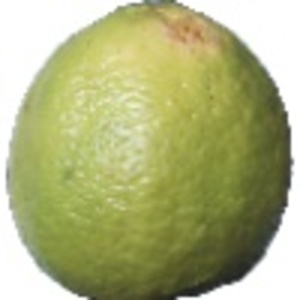limão: (7, 1, 293, 300)
